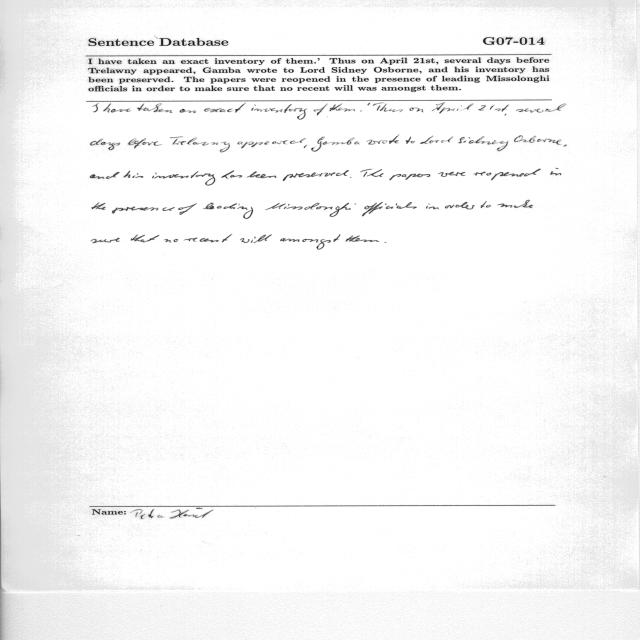word: (265, 203, 356, 217), (170, 137, 230, 153), (152, 171, 215, 186), (251, 104, 307, 120), (203, 203, 253, 219), (362, 202, 417, 216), (459, 136, 509, 151), (474, 169, 541, 180), (311, 137, 360, 152), (283, 170, 349, 181), (238, 139, 305, 149), (303, 234, 341, 250), (514, 135, 561, 145), (432, 103, 473, 114), (516, 104, 566, 113), (112, 207, 175, 214), (204, 103, 246, 113), (184, 234, 232, 242), (138, 103, 173, 113), (128, 139, 162, 149), (90, 139, 120, 150), (367, 135, 399, 145), (497, 200, 533, 208), (373, 103, 403, 112), (420, 136, 453, 144), (240, 235, 272, 243), (103, 104, 131, 113), (390, 174, 431, 180), (346, 235, 380, 242), (178, 203, 197, 215), (131, 235, 159, 243), (478, 105, 509, 112), (445, 202, 475, 209), (329, 104, 355, 112), (91, 172, 120, 179), (247, 171, 276, 178), (361, 169, 384, 177), (221, 171, 242, 179), (314, 104, 328, 115), (91, 238, 120, 243), (124, 171, 144, 178), (438, 172, 465, 177), (92, 202, 105, 210), (280, 238, 300, 242), (426, 204, 439, 210), (550, 168, 561, 175), (481, 201, 491, 208), (180, 109, 196, 113), (406, 137, 415, 144), (410, 108, 424, 112), (93, 103, 99, 112), (164, 239, 178, 242), (304, 145, 307, 148), (367, 103, 370, 105), (564, 145, 567, 147), (505, 114, 507, 116), (360, 111, 362, 112), (350, 177, 352, 178), (385, 242, 387, 243)
